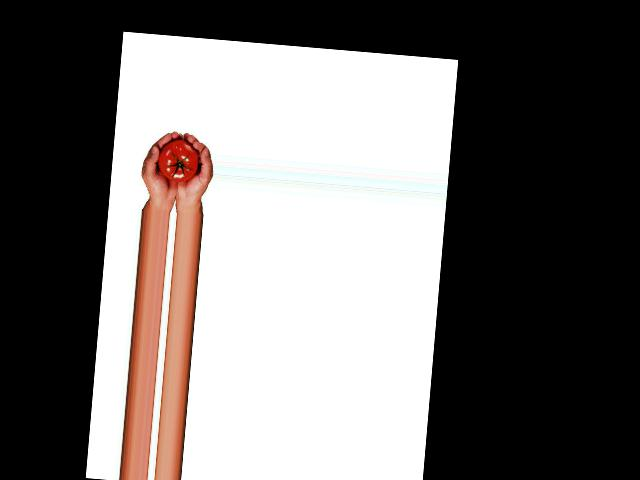tomato: (156, 138, 199, 182)
